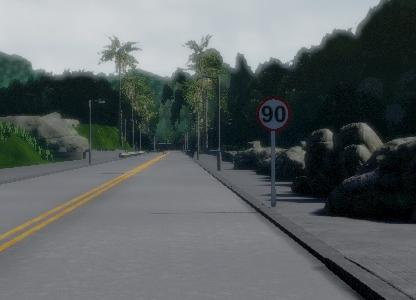Speed_90: (254, 95, 292, 134)
